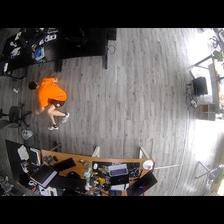fall: (28, 75, 70, 128)
